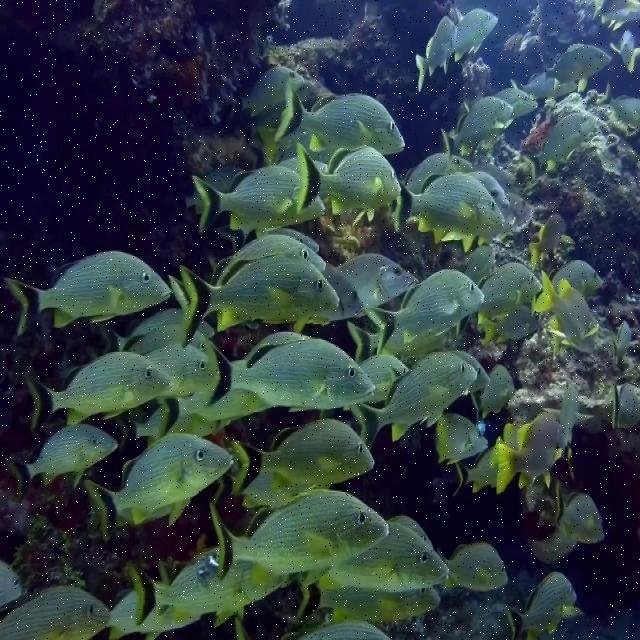fish: (210, 490, 387, 591), (84, 434, 236, 545), (179, 253, 339, 350), (5, 250, 171, 338), (199, 341, 376, 413), (350, 349, 475, 449), (126, 550, 286, 628), (230, 418, 374, 496), (23, 354, 172, 429), (367, 271, 484, 359), (275, 81, 405, 156), (192, 165, 325, 237), (320, 522, 449, 589), (294, 141, 400, 221), (391, 172, 505, 245), (9, 425, 119, 500), (497, 408, 572, 496), (533, 268, 604, 352), (0, 587, 110, 639), (506, 571, 585, 639), (439, 97, 512, 166), (341, 252, 420, 307), (415, 13, 458, 94), (533, 112, 596, 165), (148, 347, 211, 400), (542, 44, 611, 92), (239, 66, 305, 116), (450, 540, 510, 593), (555, 481, 605, 544), (481, 261, 542, 311), (547, 383, 596, 443), (438, 414, 493, 467), (477, 306, 543, 346), (451, 10, 497, 62), (524, 215, 568, 266), (476, 363, 514, 419), (597, 83, 639, 131), (552, 256, 603, 293), (593, 0, 639, 30), (610, 384, 639, 430), (494, 89, 539, 118), (611, 29, 639, 74), (612, 319, 631, 366)
